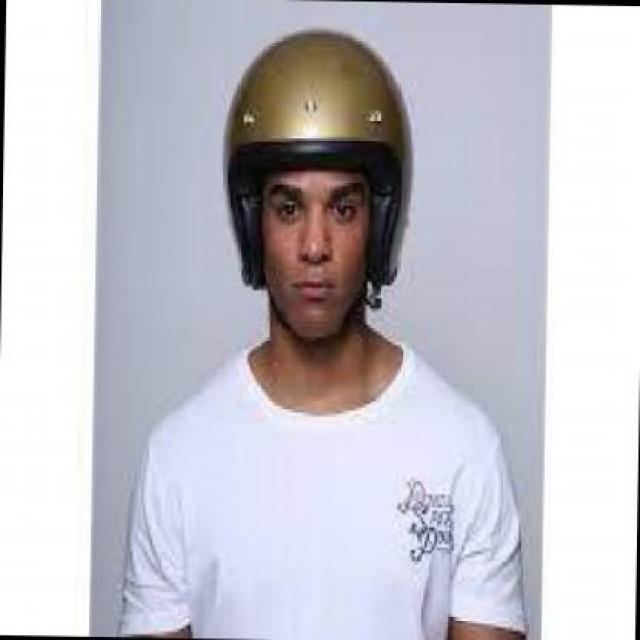Helmet: (218, 26, 415, 340)
